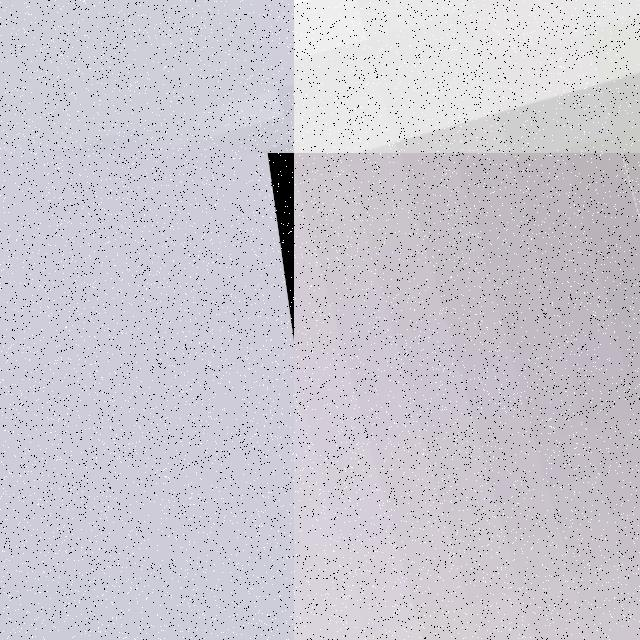drone: (294, 153, 640, 640), (294, 0, 640, 153), (0, 0, 294, 153)
